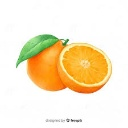orange: (23, 35, 78, 91), (57, 41, 113, 94)
